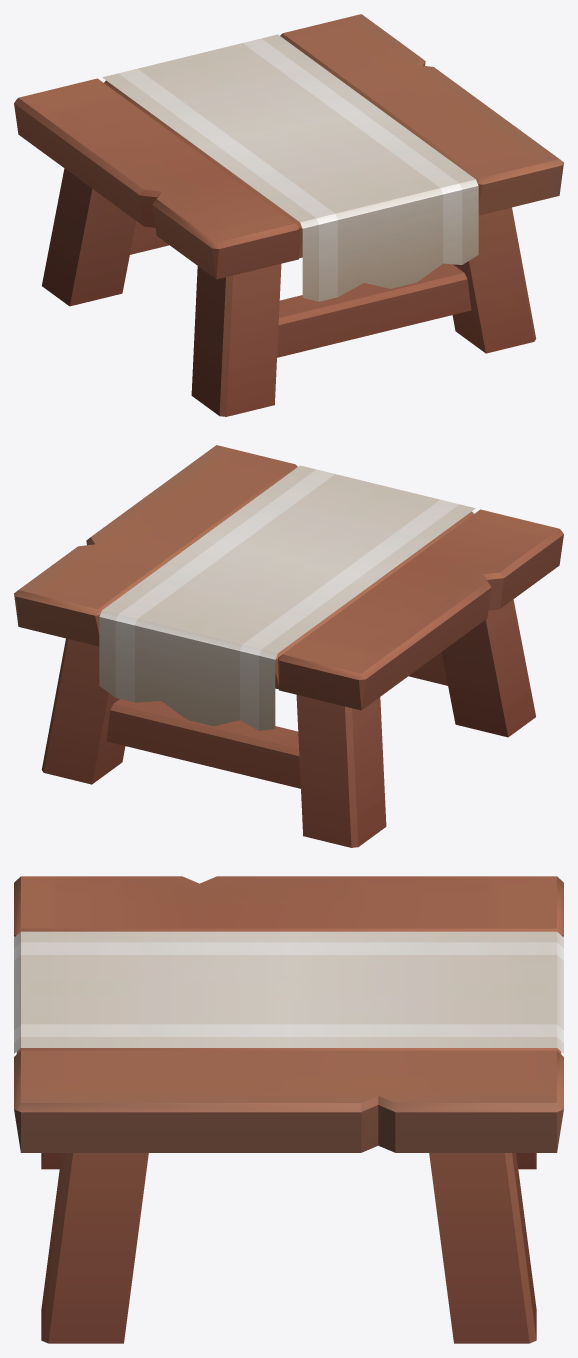
File: table_medium_tablecloth.glb
3 views of the same model, one above another, from view 1: azimuth 30°, elevation 25°; view 2: azimuth 150°, elevation 25°; view 3: azimuth 270°, elevation 25° (orthographic). The views are drawn at different scales.
Visible parts, largest first — view 1: table_medium_tablecloth; view 2: table_medium_tablecloth; view 3: table_medium_tablecloth.
Boxes of the visible parts, <box> form: table_medium_tablecloth: <box>14,14,563,416</box>; table_medium_tablecloth: <box>14,445,563,847</box>; table_medium_tablecloth: <box>14,876,563,1343</box>.
Size of the model in its own units: 2 by 0.9998 by 2.
Materials: 1 (1 with a texture image).
